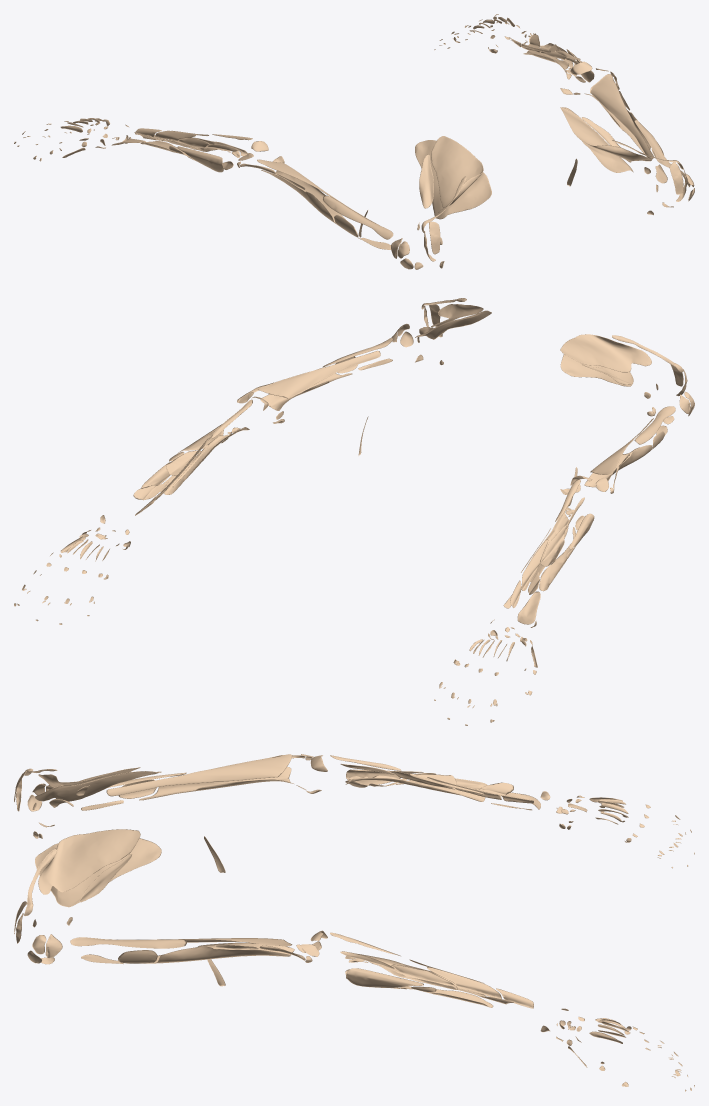
Rendered from upperlimb__insertions.2885daa1c8.glb.
The picture shows the model from 3 angles, top to bottom: view 1: azimuth 30°, elevation 25°; view 2: azimuth 150°, elevation 25°; view 3: azimuth 270°, elevation 25°; orthographic projection. The views are drawn at different scales.
Parts seen in each view (by area): view 1: Infraspinatus muscle.or, Subscapularis muscle.or, Medial head of triceps brachii.ol, Infraspinatus muscle.ol, Brachialis muscle.or, Lateral head of triceps brachii.or, Teres minor muscle.or, Subscapularis muscle.ol, Medial head of triceps brachii.or, Supinator.er; view 2: Infraspinatus muscle.or, Medial head of triceps brachii.ol, Subscapularis muscle.or, Ulnar head of flexor carpi ulnaris.ol; view 3: Infraspinatus muscle.ol, Medial head of triceps brachii.or, Subscapularis muscle.ol, Brachialis muscle.ol, Subscapularis muscle.or, Brachialis muscle.or, Lateral head of triceps brachii.ol, Supinator.el, Extensor pollicis longus.ol, Ulnar head of flexor carpi ulnaris.or, Teres minor muscle.ol, Abductor pollicis longus.ol (+3 smaller).
Part boxes in pixels (left/top/right/bottom): Infraspinatus muscle.or: left=431, top=136, right=483, bottom=212; Subscapularis muscle.or: left=415, top=140, right=491, bottom=219; Medial head of triceps brachii.ol: left=590, top=74, right=653, bottom=159; Infraspinatus muscle.ol: left=560, top=107, right=651, bottom=162; Brachialis muscle.or: left=261, top=170, right=345, bottom=224; Lateral head of triceps brachii.or: left=322, top=195, right=393, bottom=239; Teres minor muscle.or: left=419, top=154, right=433, bottom=208; Subscapularis muscle.ol: left=563, top=107, right=633, bottom=172; Medial head of triceps brachii.or: left=257, top=159, right=379, bottom=225; Supinator.er: left=177, top=146, right=223, bottom=172; Infraspinatus muscle.or: left=560, top=334, right=651, bottom=372; Medial head of triceps brachii.ol: left=257, top=351, right=380, bottom=398; Subscapularis muscle.or: left=560, top=354, right=633, bottom=386; Ulnar head of flexor carpi ulnaris.ol: left=160, top=427, right=249, bottom=494; Infraspinatus muscle.ol: left=38, top=829, right=140, bottom=894; Medial head of triceps brachii.or: left=106, top=754, right=292, bottom=796; Subscapularis muscle.ol: left=35, top=838, right=161, bottom=907; Brachialis muscle.ol: left=145, top=942, right=294, bottom=963; Subscapularis muscle.or: left=35, top=771, right=161, bottom=801; Brachialis muscle.or: left=139, top=767, right=293, bottom=800; Lateral head of triceps brachii.ol: left=70, top=937, right=186, bottom=948; Supinator.el: left=346, top=968, right=423, bottom=987; Extensor pollicis longus.ol: left=427, top=967, right=501, bottom=998; Ulnar head of flexor carpi ulnaris.or: left=345, top=775, right=485, bottom=801; Teres minor muscle.ol: left=79, top=854, right=131, bottom=902; Abductor pollicis longus.ol: left=391, top=964, right=457, bottom=989.
Size of the model in its own units: 640 by 191 by 683.
